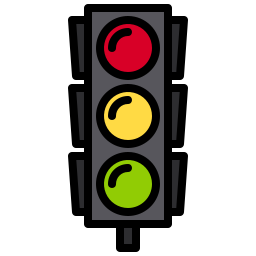TraficLight: (58, 5, 197, 249)
